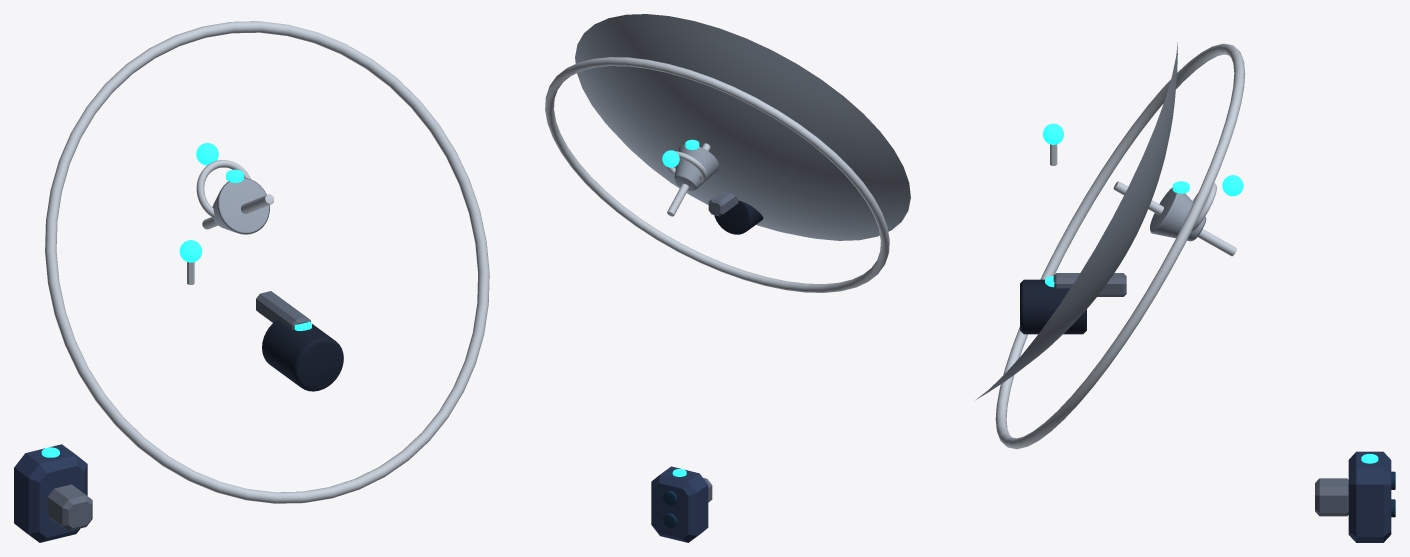
File: tower_skywatch_range_s6.glb
3 views of the same model, side by side, from view 1: azimuth 30°, elevation 25°; view 2: azimuth 150°, elevation 25°; view 3: azimuth 270°, elevation 25° (orthographic). The views are drawn at different scales.
Parts seen in each view (by area): view 1: skywatch_wide_rim, skywatch_sensor_cluster, skywatch_dish_counterweight, skywatch_feed_horn, skywatch_sensor_mount, skywatch_dish_cw_arm, skywatch_feed_horn_ring; view 2: skywatch_wide_dish, skywatch_wide_rim, skywatch_sensor_cluster, skywatch_feed_horn, skywatch_dish_counterweight, skywatch_dish_cw_arm; view 3: skywatch_wide_rim, skywatch_wide_dish, skywatch_sensor_cluster, skywatch_dish_counterweight, skywatch_feed_horn, skywatch_sensor_mount, skywatch_dish_cw_arm, skywatch_wide_feed_arm.
Boxes of the visible parts, bbox=[...] form: skywatch_wide_rim: bbox=[45, 21, 489, 503]; skywatch_sensor_cluster: bbox=[14, 444, 87, 542]; skywatch_dish_counterweight: bbox=[262, 319, 343, 391]; skywatch_feed_horn: bbox=[212, 177, 269, 234]; skywatch_sensor_mount: bbox=[47, 484, 92, 530]; skywatch_dish_cw_arm: bbox=[256, 291, 310, 329]; skywatch_feed_horn_ring: bbox=[196, 160, 250, 218]; skywatch_wide_dish: bbox=[575, 14, 910, 240]; skywatch_wide_rim: bbox=[545, 57, 889, 292]; skywatch_sensor_cluster: bbox=[651, 466, 708, 542]; skywatch_feed_horn: bbox=[674, 144, 719, 190]; skywatch_dish_counterweight: bbox=[714, 200, 763, 234]; skywatch_dish_cw_arm: bbox=[708, 191, 738, 216]; skywatch_wide_rim: bbox=[995, 43, 1245, 449]; skywatch_wide_dish: bbox=[976, 42, 1177, 399]; skywatch_sensor_cluster: bbox=[1348, 451, 1391, 542]; skywatch_dish_counterweight: bbox=[1020, 279, 1086, 334]; skywatch_feed_horn: bbox=[1150, 187, 1206, 241]; skywatch_sensor_mount: bbox=[1315, 478, 1348, 516]; skywatch_dish_cw_arm: bbox=[1053, 273, 1126, 296]; skywatch_wide_feed_arm: bbox=[1113, 181, 1236, 256].
Size of the model in its own units: 1.52 by 1.94 by 1.5.
